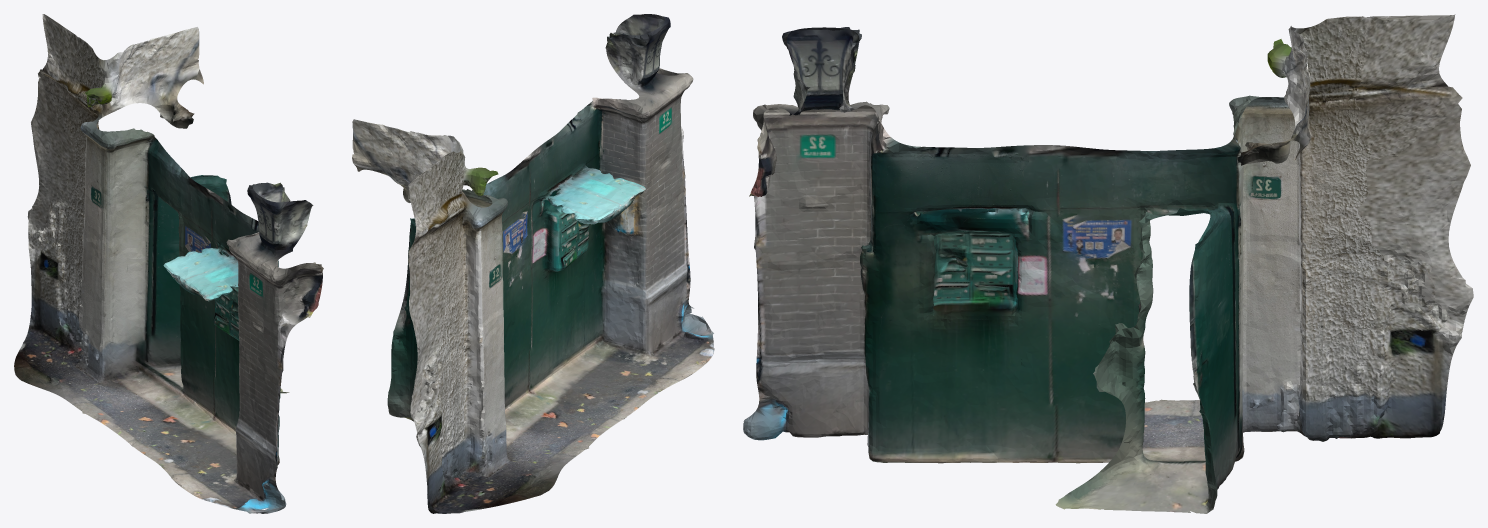
The model's file is GreenDoorHouse_Photog.fbx.
3 views of the same model, side by side, from view 1: azimuth 30°, elevation 25°; view 2: azimuth 150°, elevation 25°; view 3: azimuth 270°, elevation 25° (orthographic). The views are drawn at different scales.
Bounding box in the file's own units: 2.12 × 3.47 × 5.26.
1 material, 1 textured.
